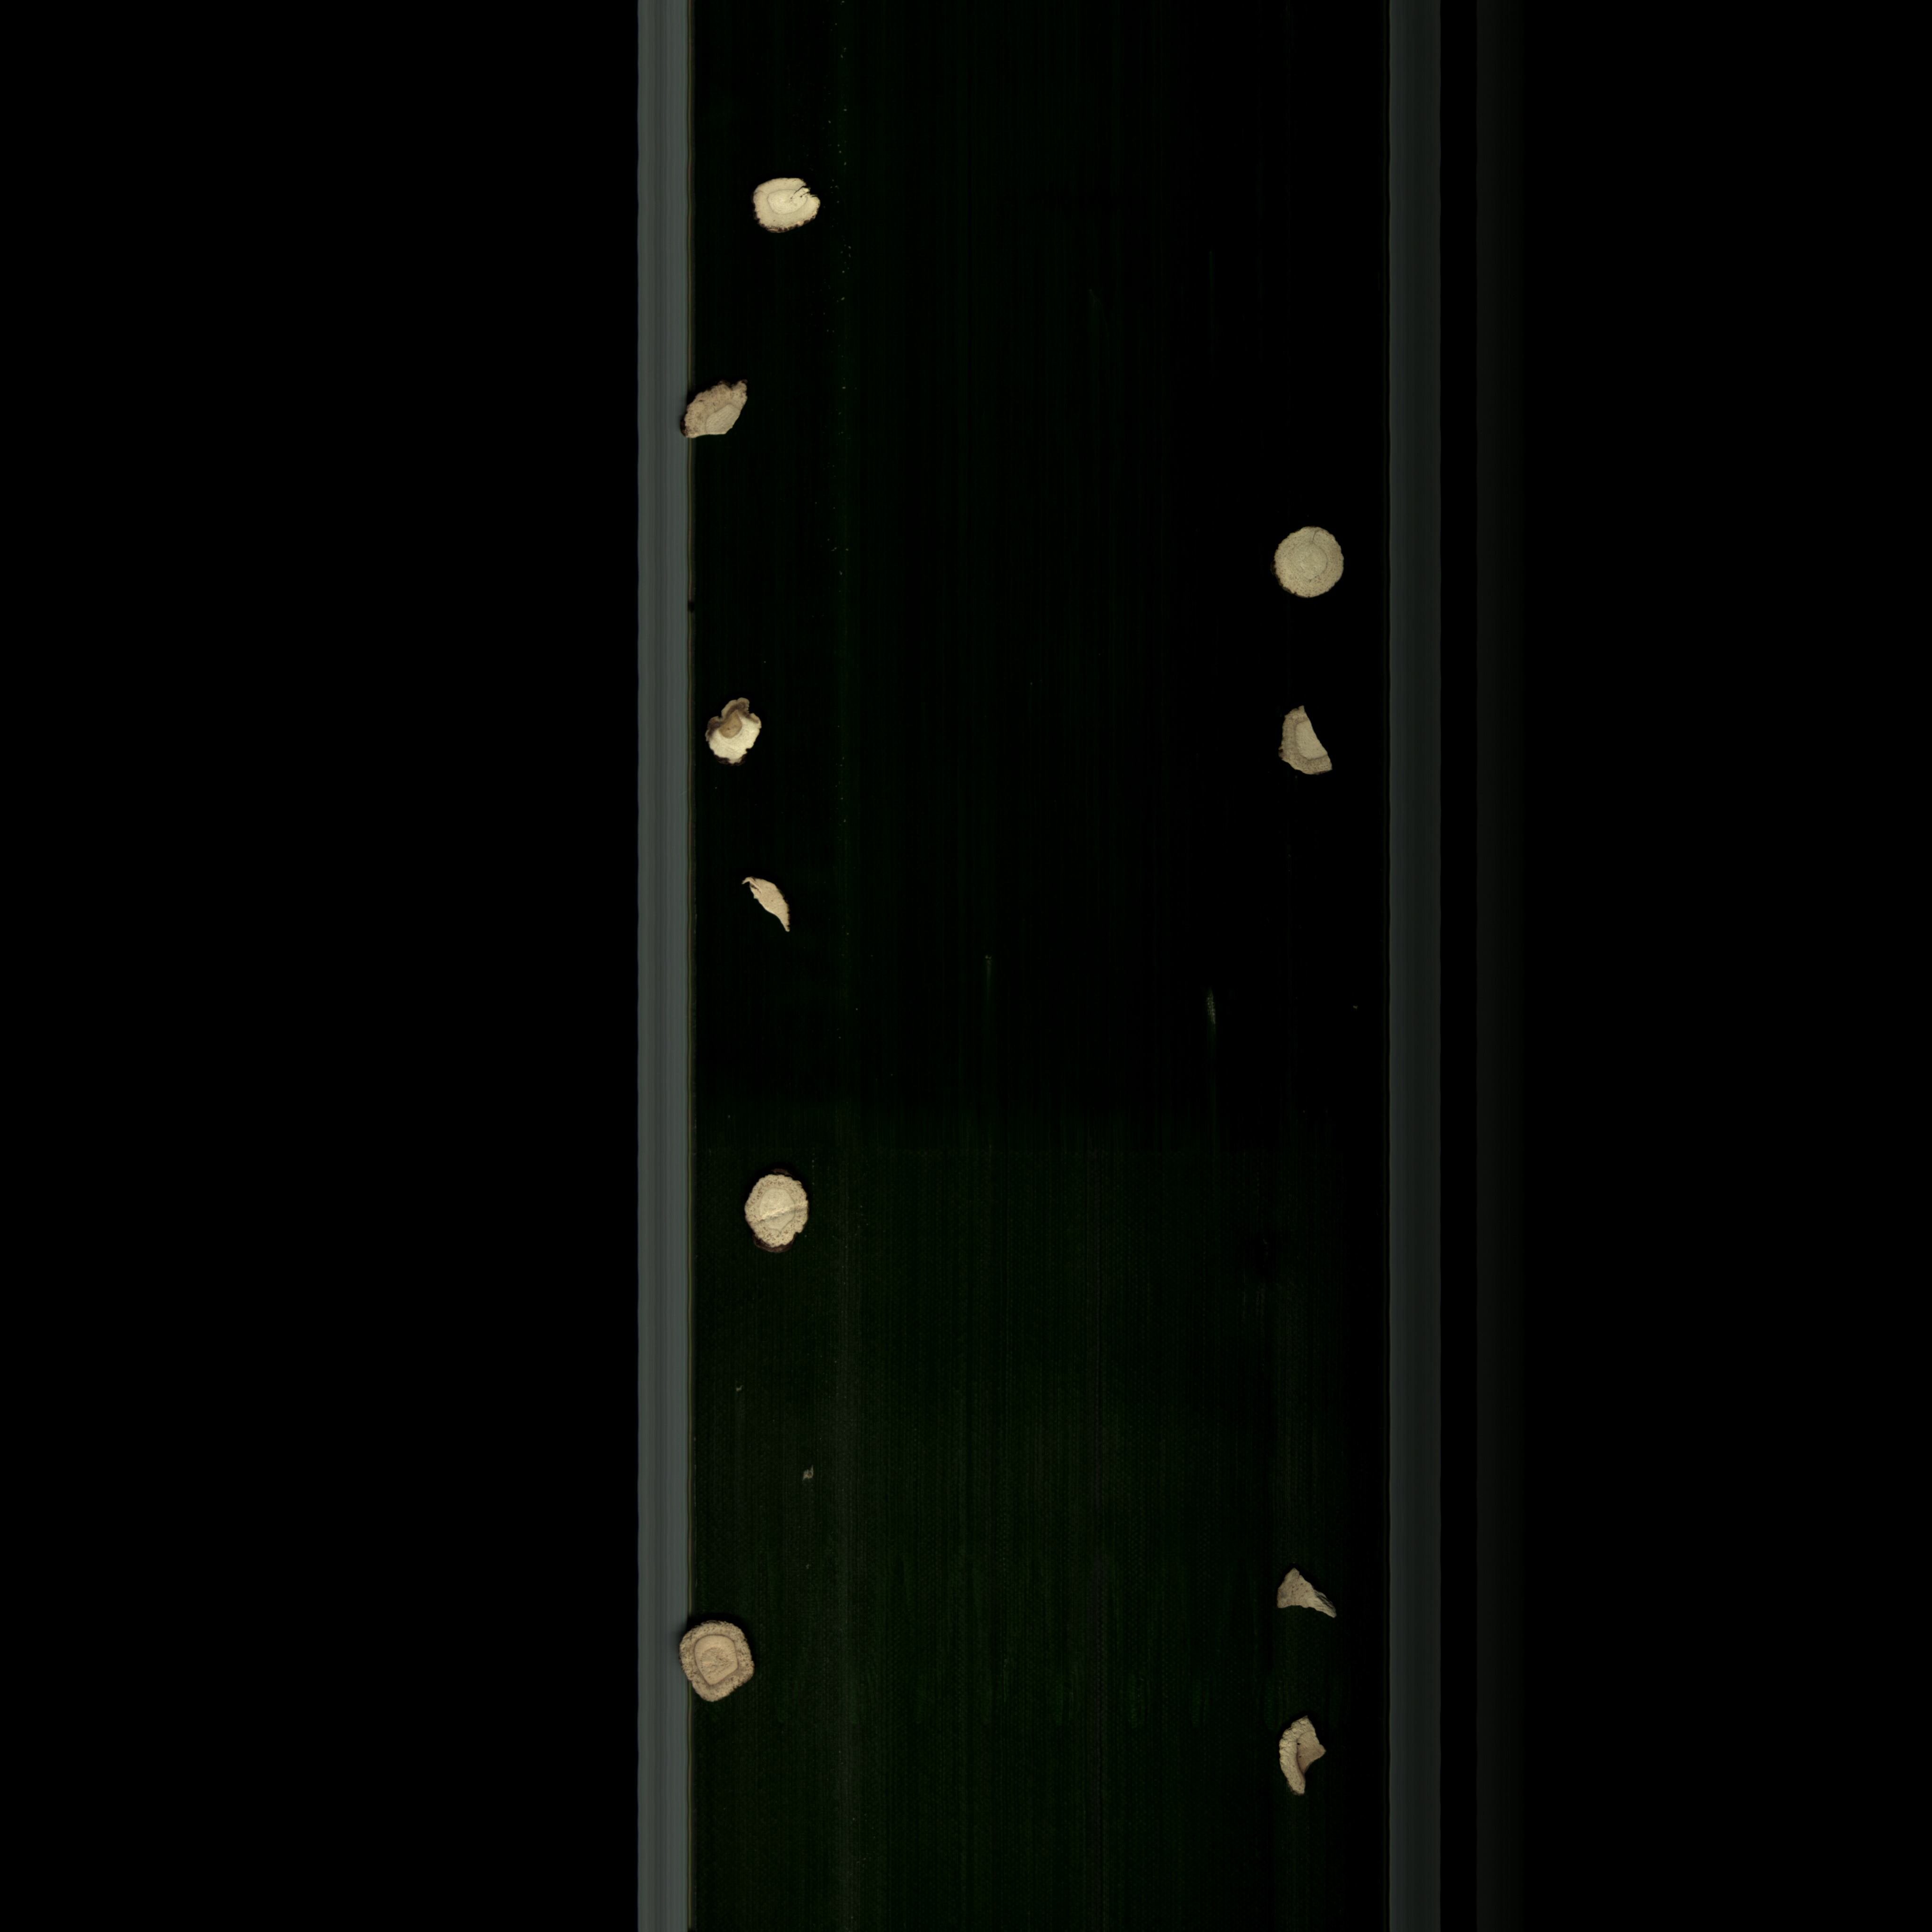debris: (678, 368, 763, 449), (1270, 697, 1339, 789), (741, 172, 826, 241)
dreg: (1261, 1702, 1327, 1806), (1269, 1564, 1346, 1631), (729, 869, 794, 947)
moldy: (674, 1608, 763, 1720), (699, 694, 780, 777)
